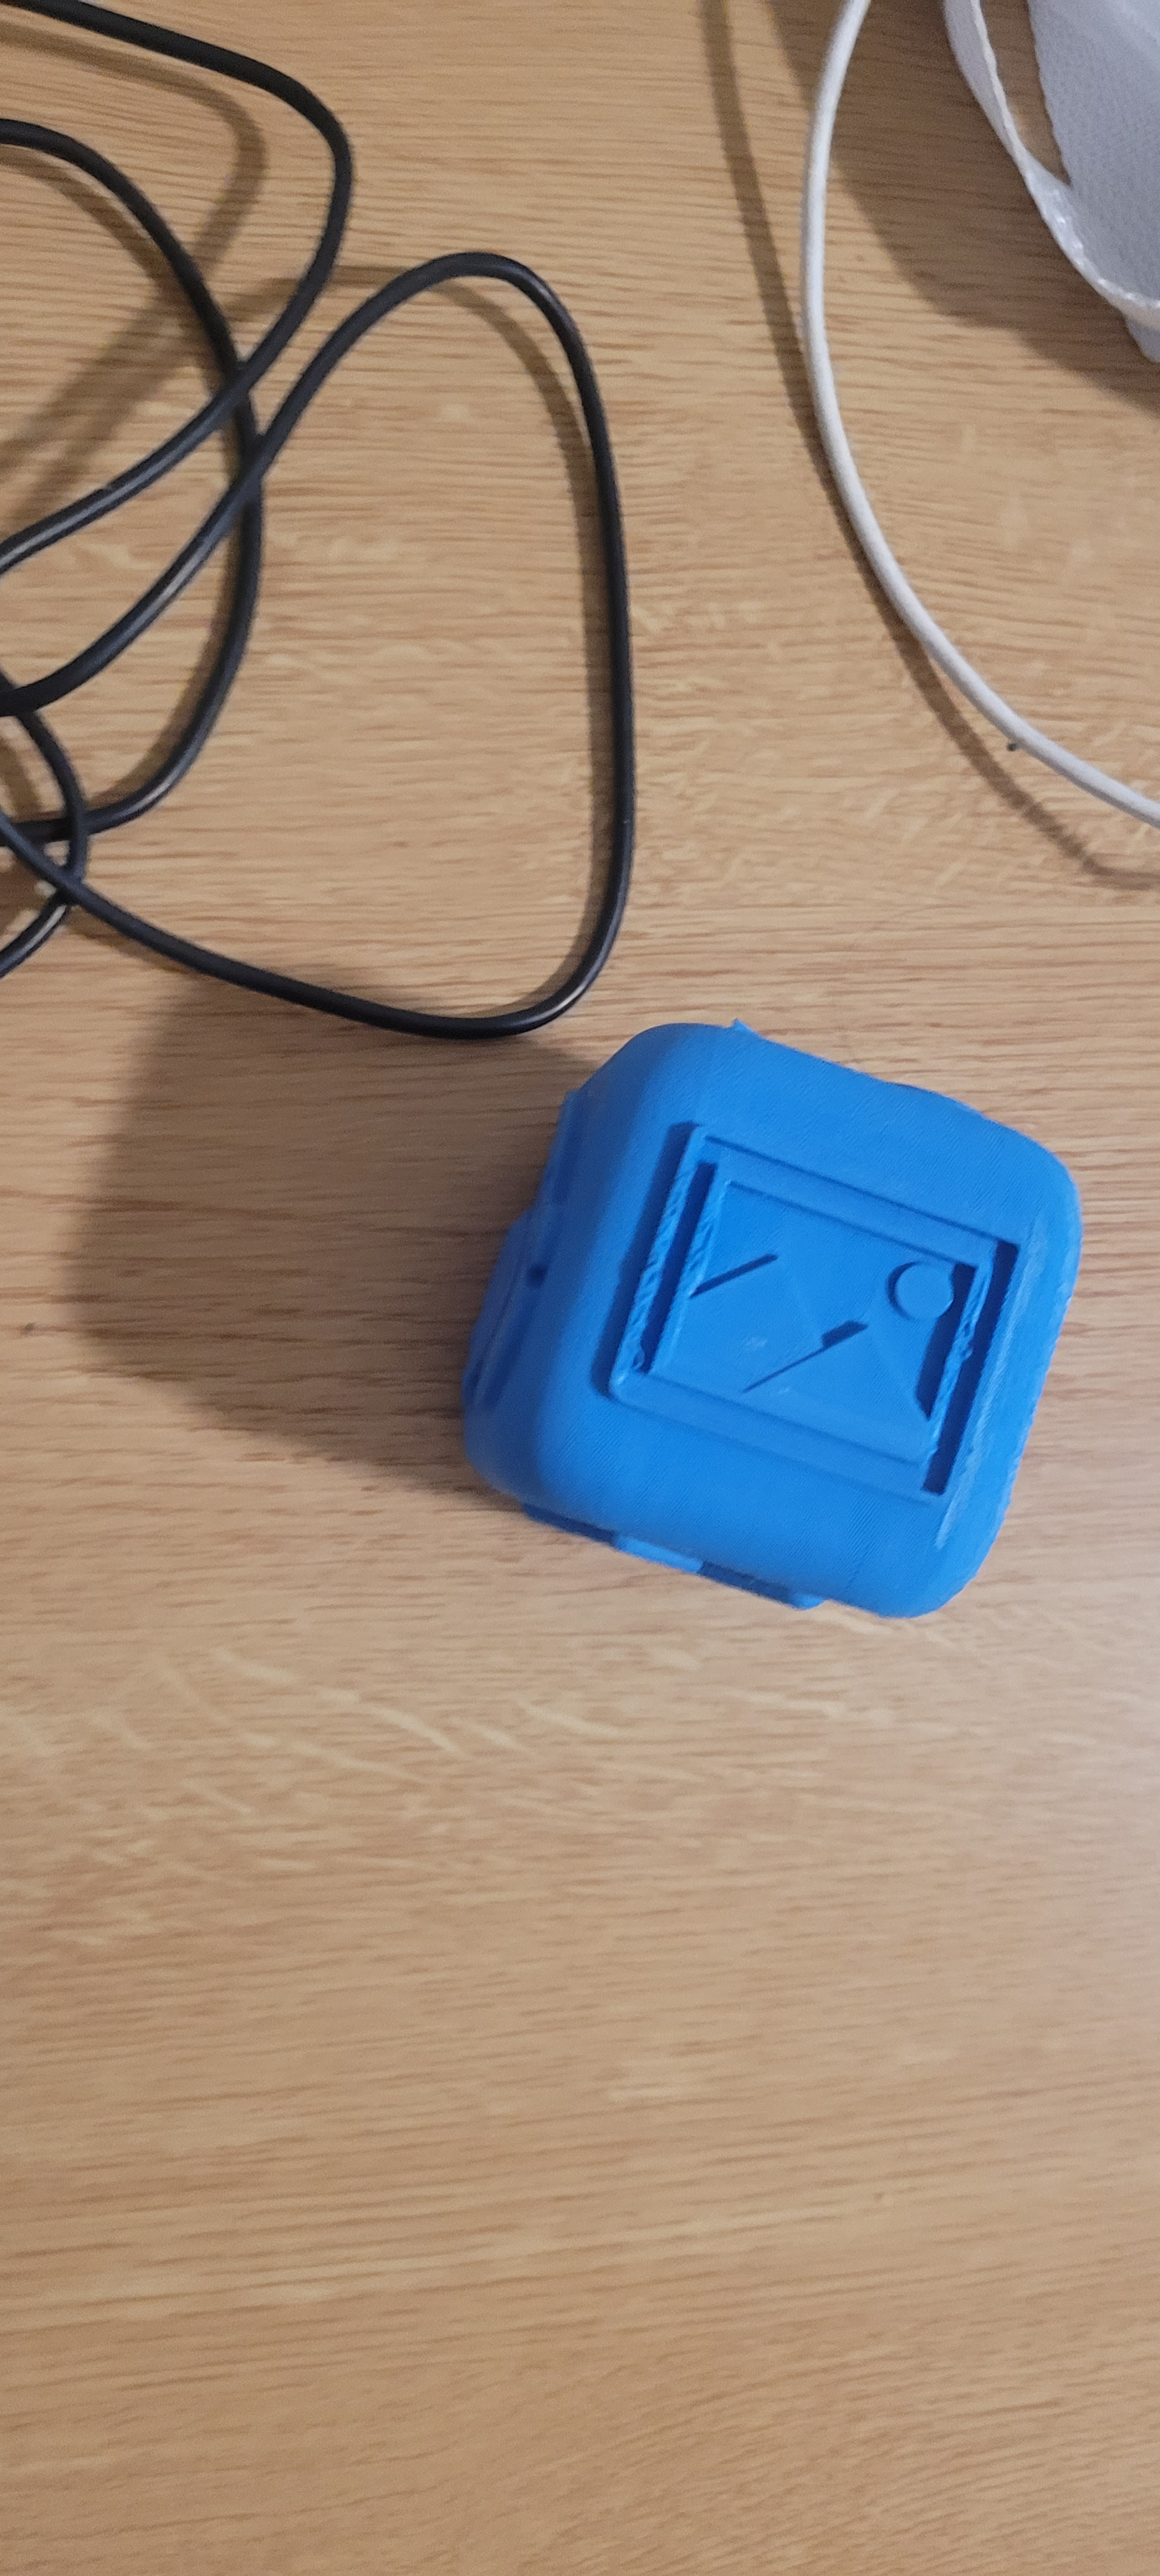Story: (626, 1106, 1043, 1497)
